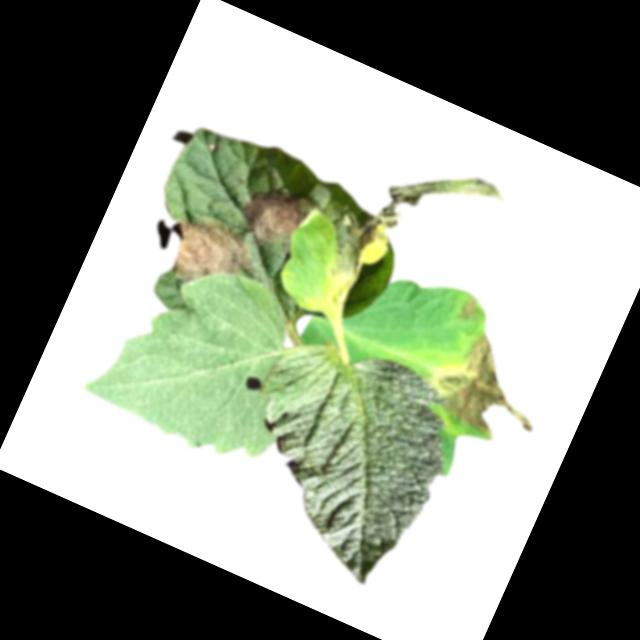Late_blight: (308, 131, 510, 344), (422, 322, 560, 453), (152, 207, 263, 310), (226, 171, 321, 261), (453, 291, 485, 327)
healthy: (205, 316, 475, 596)
